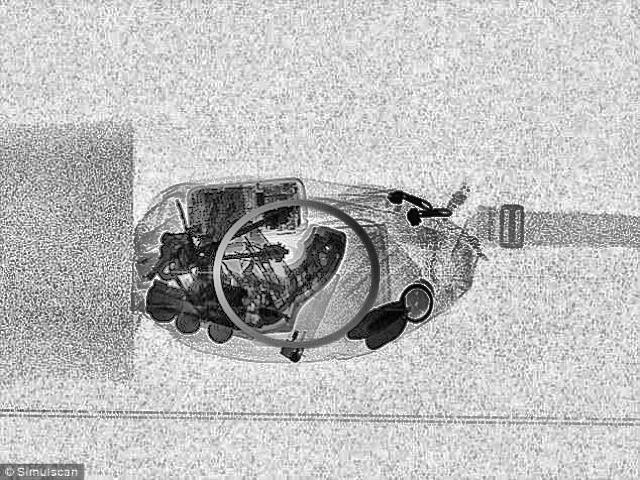Gun: (194, 214, 346, 336)
